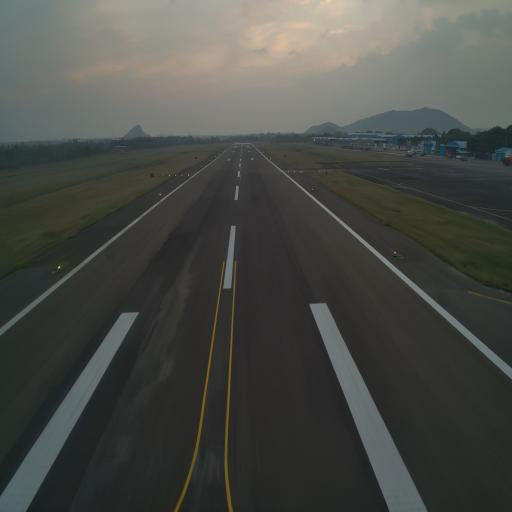on: (54, 263, 62, 273), (392, 246, 398, 256), (158, 192, 162, 198), (311, 186, 314, 191)
